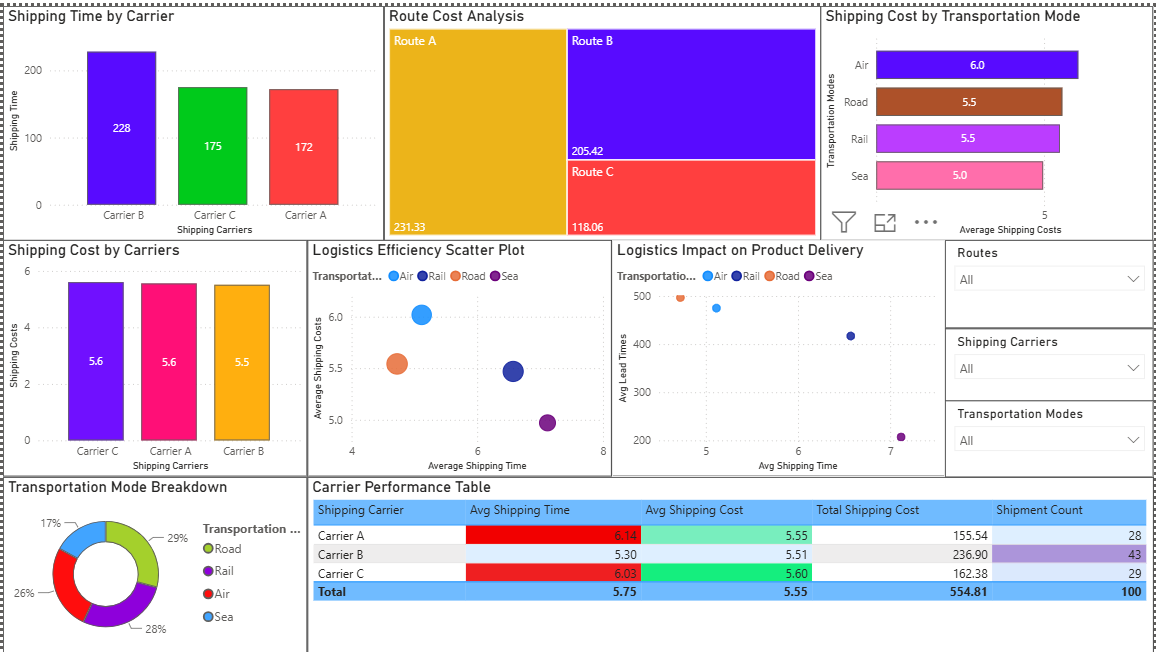

This screenshot's page, from the dashboard's own definition file:
{"tool":"powerbi","page":{"name":"Logistics & Shipping Performance","canvas":[1280,720],"ordinal":3},"visuals":[{"type":"clusteredColumnChart","title":"Shipping Time by Carrier","fields":{"Y":["Sum(supply_chain_table.Shipping_times)"],"Category":["supply_chain_table.Shipping_carriers"]},"box":[0,0,423.3,260.8],"z":0},{"type":"clusteredColumnChart","title":"Shipping Cost by Carriers","fields":{"Y":["Avg(supply_chain_table.Shipping_costs)"],"Category":["supply_chain_table.Shipping_carriers"]},"box":[0,260.8,338.3,262.7],"z":1000},{"type":"donutChart","title":"Transportation Mode Breakdown","fields":{"Category":["supply_chain_table.Transportation_modes"],"Y":["CountNonNull(supply_chain_table.Transportation_modes)"]},"box":[0,523.5,338.3,196.5],"z":2000},{"type":"treemap","title":"Route Cost Analysis","fields":{"Group":["supply_chain_table.Routes"],"Values":["Sum(supply_chain_table.Shipping_costs)"]},"box":[423.3,0,485.7,260.8],"z":3000},{"type":"scatterChart","title":"Logistics Efficiency Scatter Plot","fields":{"X":["Avg(supply_chain_table.Shipping_times)"],"Y":["Avg(supply_chain_table.Shipping_costs)"],"Series":["supply_chain_table.Transportation_modes"],"Size":["CountNonNull(supply_chain_table.Transportation_modes)"]},"box":[338.3,260.8,338.3,262.7],"z":4000},{"type":"barChart","title":"Shipping Cost by Transportation Mode","fields":{"Y":["Avg(supply_chain_table.Shipping_costs)"],"Category":["supply_chain_table.Transportation_modes"]},"box":[909,0,370.4,260.8],"z":5000},{"type":"tableEx","title":"Carrier Performance Table","fields":{"Values":["supply_chain_table.Shipping_carriers","Avg(supply_chain_table.Shipping_times)","Avg(supply_chain_table.Shipping_costs)","Sum(supply_chain_table.Shipping_costs)1","supply_chain_table.Transportation_modes"]},"box":[338.3,523.5,941.1,196.5],"z":6000},{"type":"scatterChart","title":"Logistics Impact on Product Delivery","fields":{"X":["Avg(supply_chain_table.Shipping_times)"],"Y":["Sum(supply_chain_table.Lead_times)"],"Series":["supply_chain_table.Transportation_modes"]},"box":[676.5,260.8,370.4,262.7],"z":7000},{"type":"slicer","fields":{"Values":["supply_chain_table.Shipping_carriers"]},"box":[1046.9,359.1,232.4,81.3],"z":8000},{"type":"slicer","fields":{"Values":["supply_chain_table.Transportation_modes"]},"box":[1046.9,438.4,232.4,85],"z":9000},{"type":"slicer","fields":{"Values":["supply_chain_table.Routes"]},"box":[1046.9,260.8,232.4,98.3],"z":10000}]}

Visuals, with their boxes in screenshot pixels (x1, y1, x2, y2), scaled from the page's 1280x720 canvas onto the 1156x652 screenshot:
"Shipping Time by Carrier" clusteredColumnChart: [x1=0, y1=0, x2=382, y2=236]
"Shipping Cost by Carriers" clusteredColumnChart: [x1=0, y1=236, x2=306, y2=474]
"Transportation Mode Breakdown" donutChart: [x1=0, y1=474, x2=306, y2=651]
"Route Cost Analysis" treemap: [x1=382, y1=0, x2=821, y2=236]
"Logistics Efficiency Scatter Plot" scatterChart: [x1=306, y1=236, x2=611, y2=474]
"Shipping Cost by Transportation Mode" barChart: [x1=821, y1=0, x2=1155, y2=236]
"Carrier Performance Table" tableEx: [x1=306, y1=474, x2=1155, y2=651]
"Logistics Impact on Product Delivery" scatterChart: [x1=611, y1=236, x2=945, y2=474]
slicer - supply_chain_table.Shipping_carriers: [x1=945, y1=325, x2=1155, y2=399]
slicer - supply_chain_table.Transportation_modes: [x1=945, y1=397, x2=1155, y2=474]
slicer - supply_chain_table.Routes: [x1=945, y1=236, x2=1155, y2=325]
